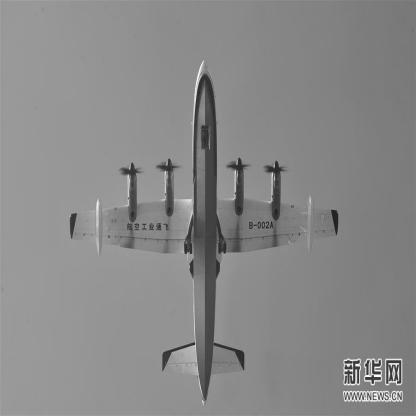AG600: (70, 61, 340, 408)
